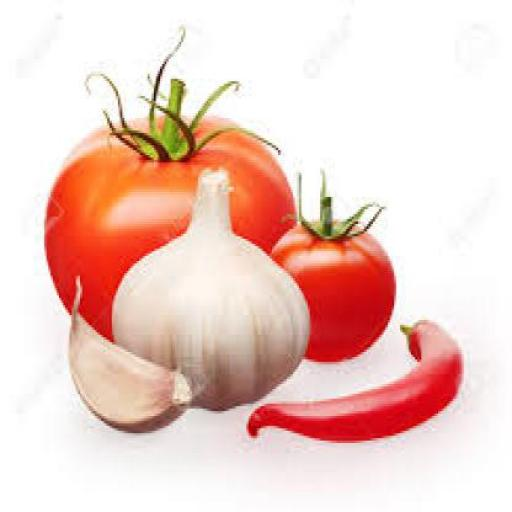biodegradable: (44, 76, 296, 338), (106, 165, 305, 411), (244, 315, 461, 441), (268, 170, 394, 359), (69, 274, 192, 428)
